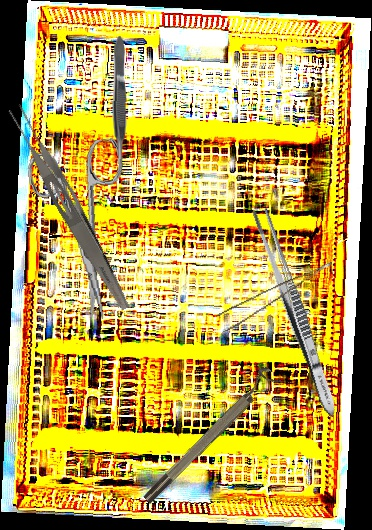Dressing Forceps: (2, 101, 140, 314), (247, 204, 344, 420)
Fixation Ring: (135, 363, 282, 507)
Iris Scissors: (24, 137, 142, 326)
Tissue Forceps: (214, 261, 341, 333), (111, 36, 129, 167)
